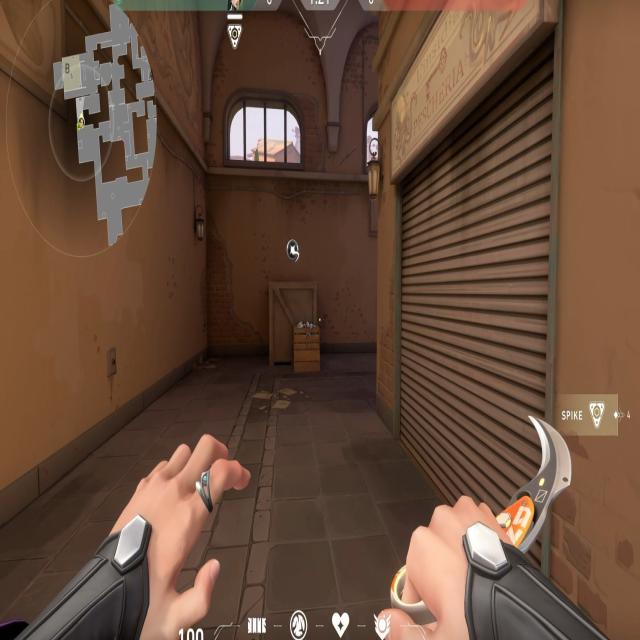B_Main_Wallbang: (257, 225, 336, 392)
Throwables: (222, 86, 312, 185)
